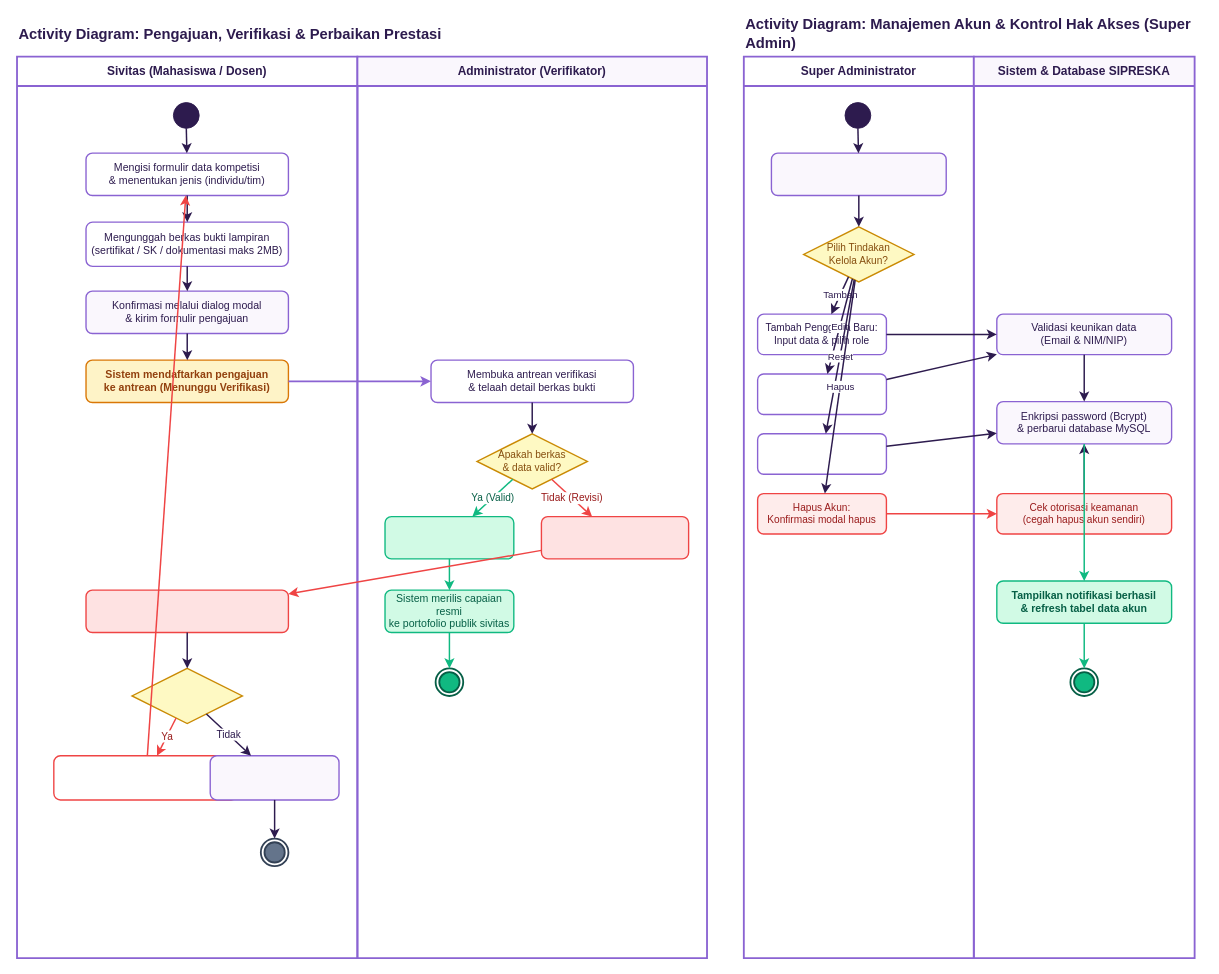
Image size: 1219x974. Some labels were removed from this diagram. The shapes that lost their labels are listed below. From the top down, each one's centre as x and y in pixels, then its label:
At point (858, 174): "Login & buka halaman Manajemen Akun (/users)".
At point (822, 394): "Edit Pengguna: Ubah identitas atau role".
At point (822, 454): "Reset Kata Sandi: Masukkan password baru".
At point (449, 537): "Setujui Pengajuan: Status = Disetujui".
At point (614, 537): "Tolak Pengajuan & wajib tulis catatan alasan penolakan".
At point (187, 611): "Sivitas menerima status Ditolak & membaca catatan verifikator".
At point (187, 695): "Ajukan Perbaikan?".
At point (145, 777): "Klik 'Perbaiki & Ajukan Kembali' lalu perbarui dokumen pendukung".
At point (274, 777): "Pengajuan diarsipkan".
